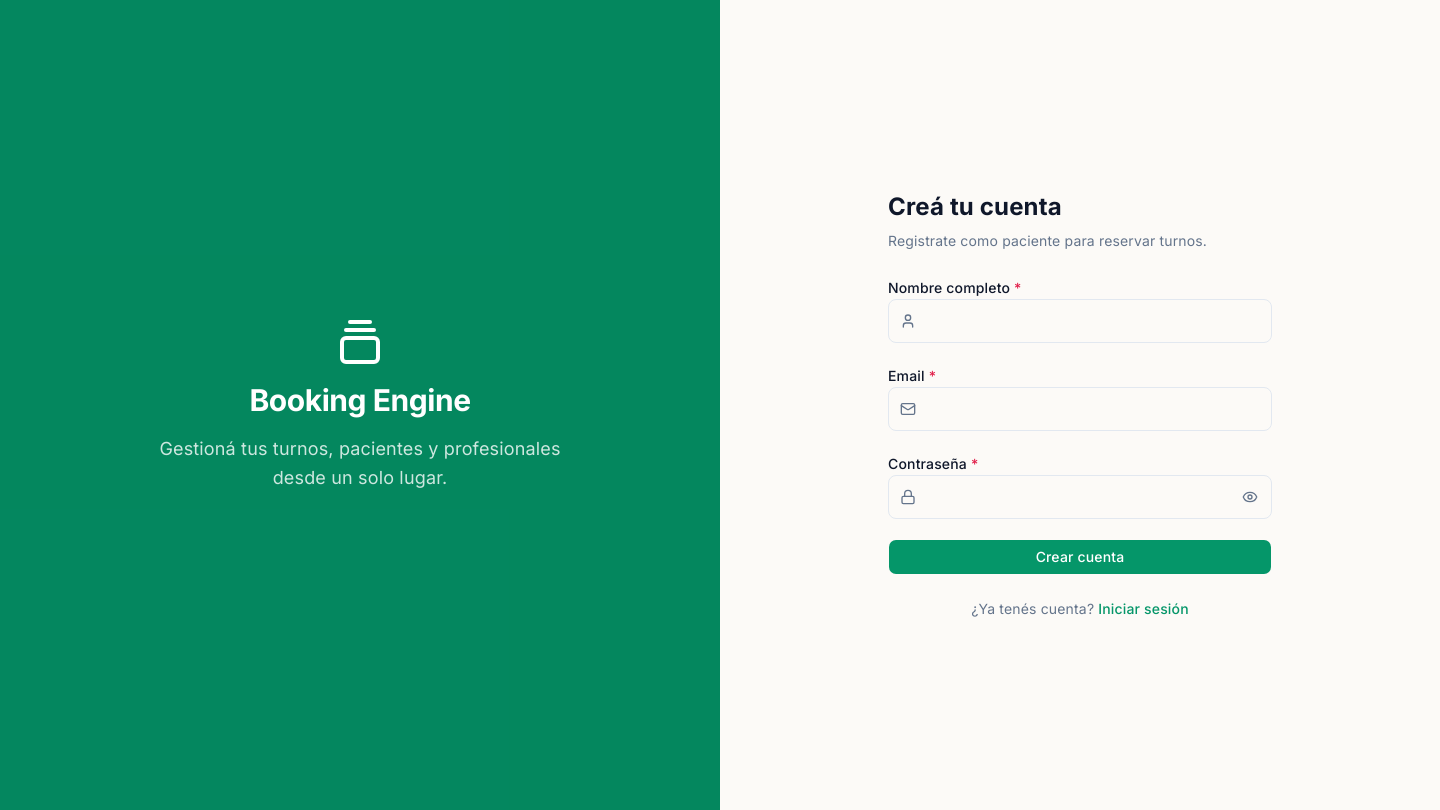
RegisterForm — focus first invalid field on multi-field failure › focuses the email input when name is valid but email and password are invalid
This screenshot has width=1440, height=810.
Type "Juan" into the field labelled "Nombre completo*" at x=1080, y=321, box x1=888 y1=299 x2=1272 y2=343
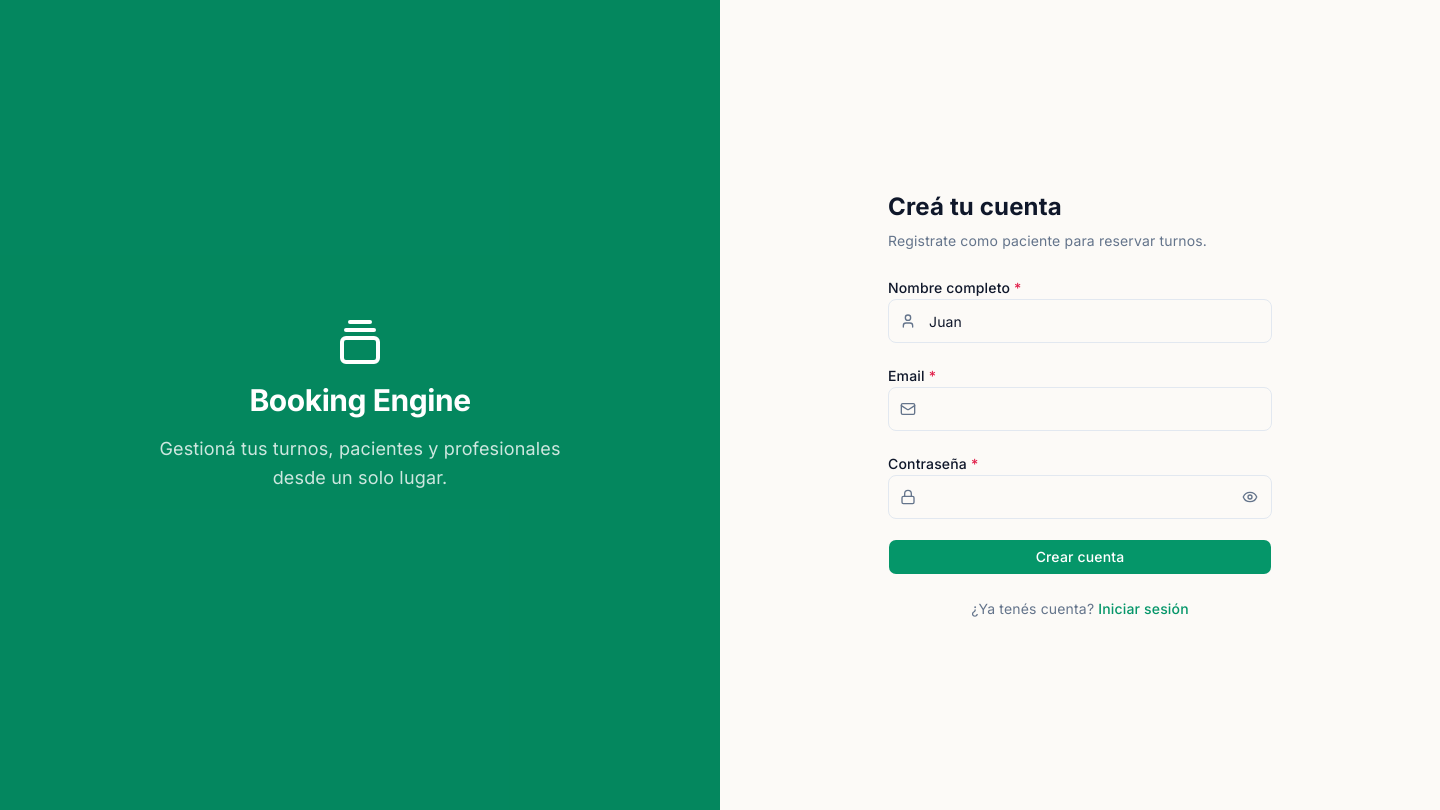
Type "not-an-email" into the field labelled "Email*" at x=1080, y=409, box x1=888 y1=387 x2=1272 y2=431
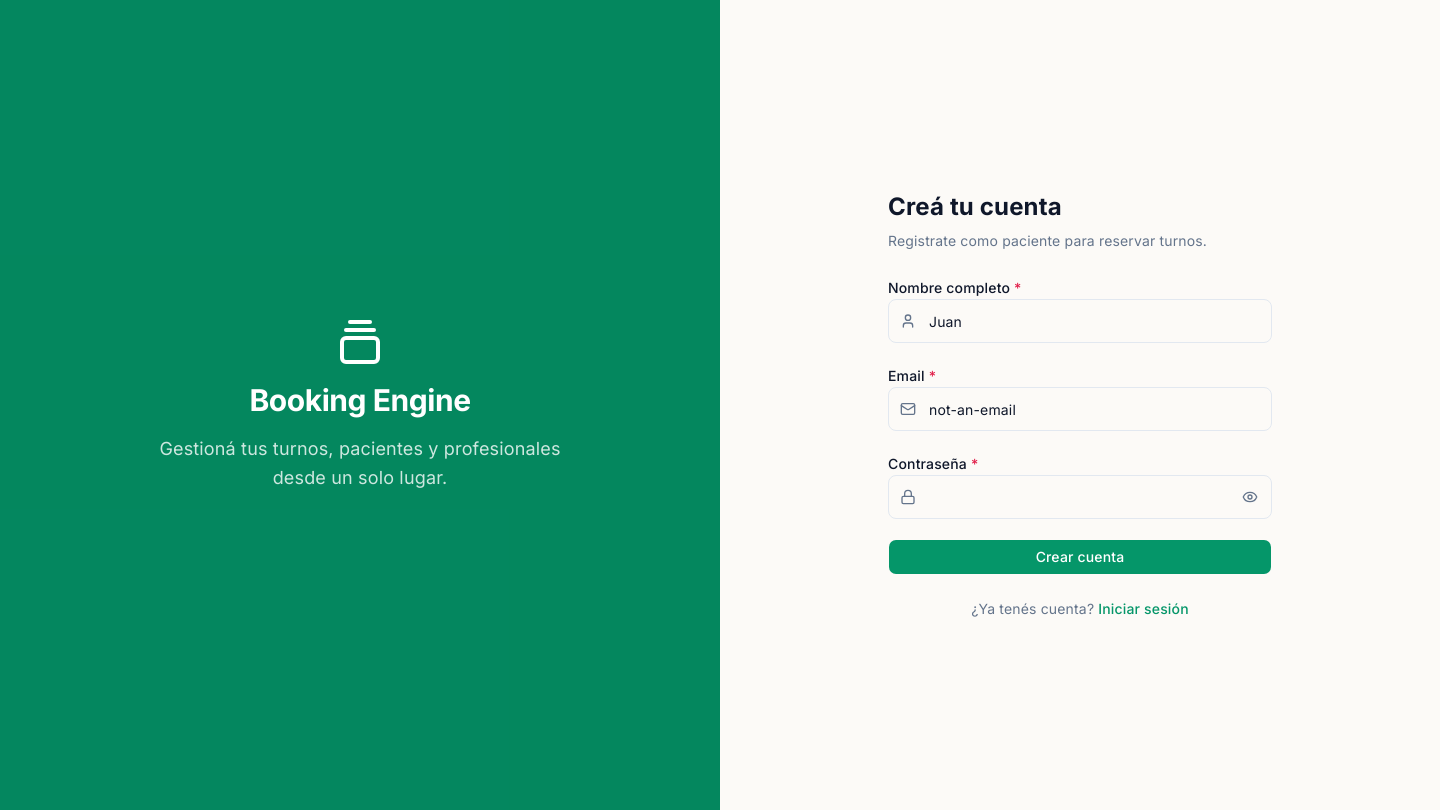
Type "short" into the password field labelled "Contraseña*" at x=1080, y=497, box x1=888 y1=475 x2=1272 y2=519
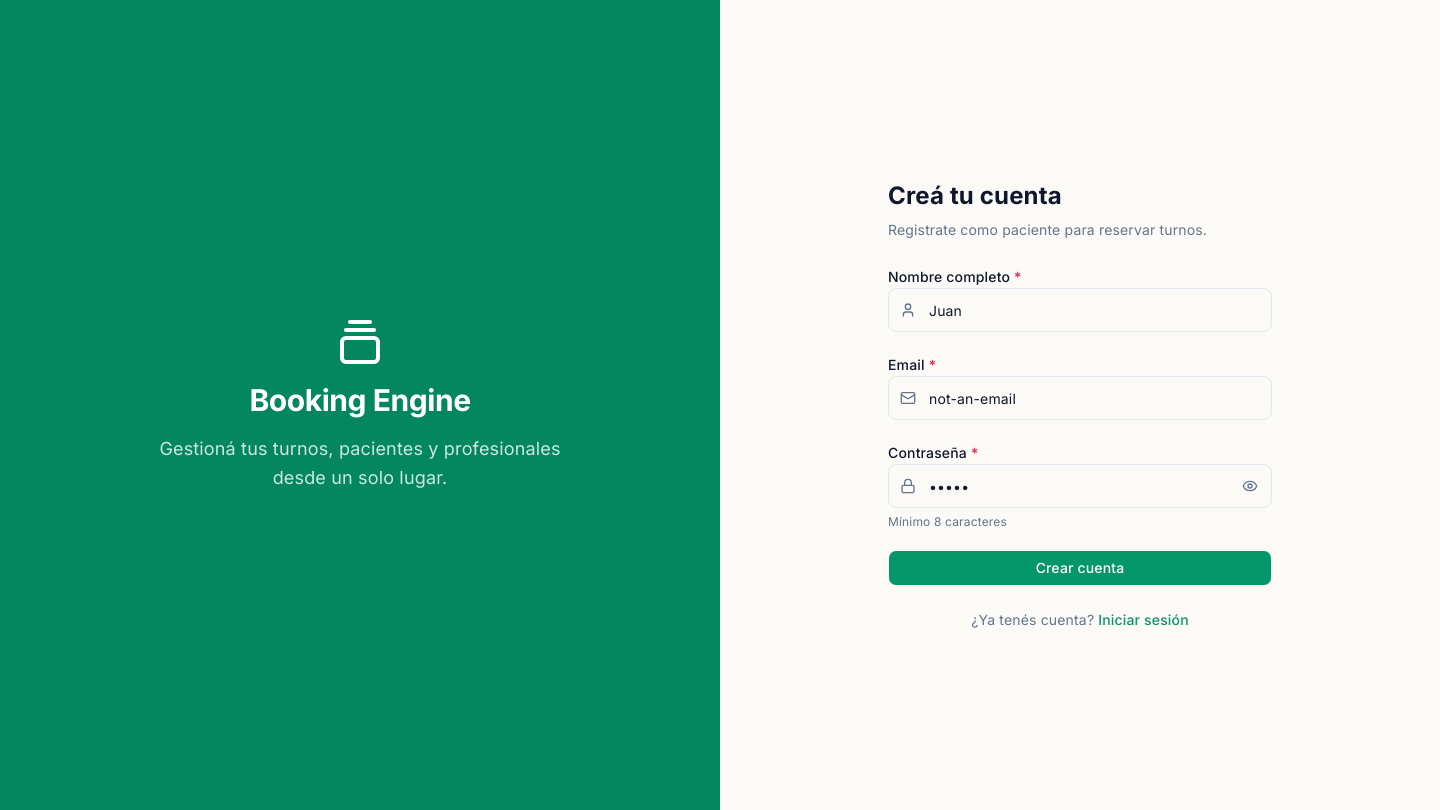
Click the button "Crear cuenta" at x=1080, y=568, box x1=888 y1=550 x2=1272 y2=586
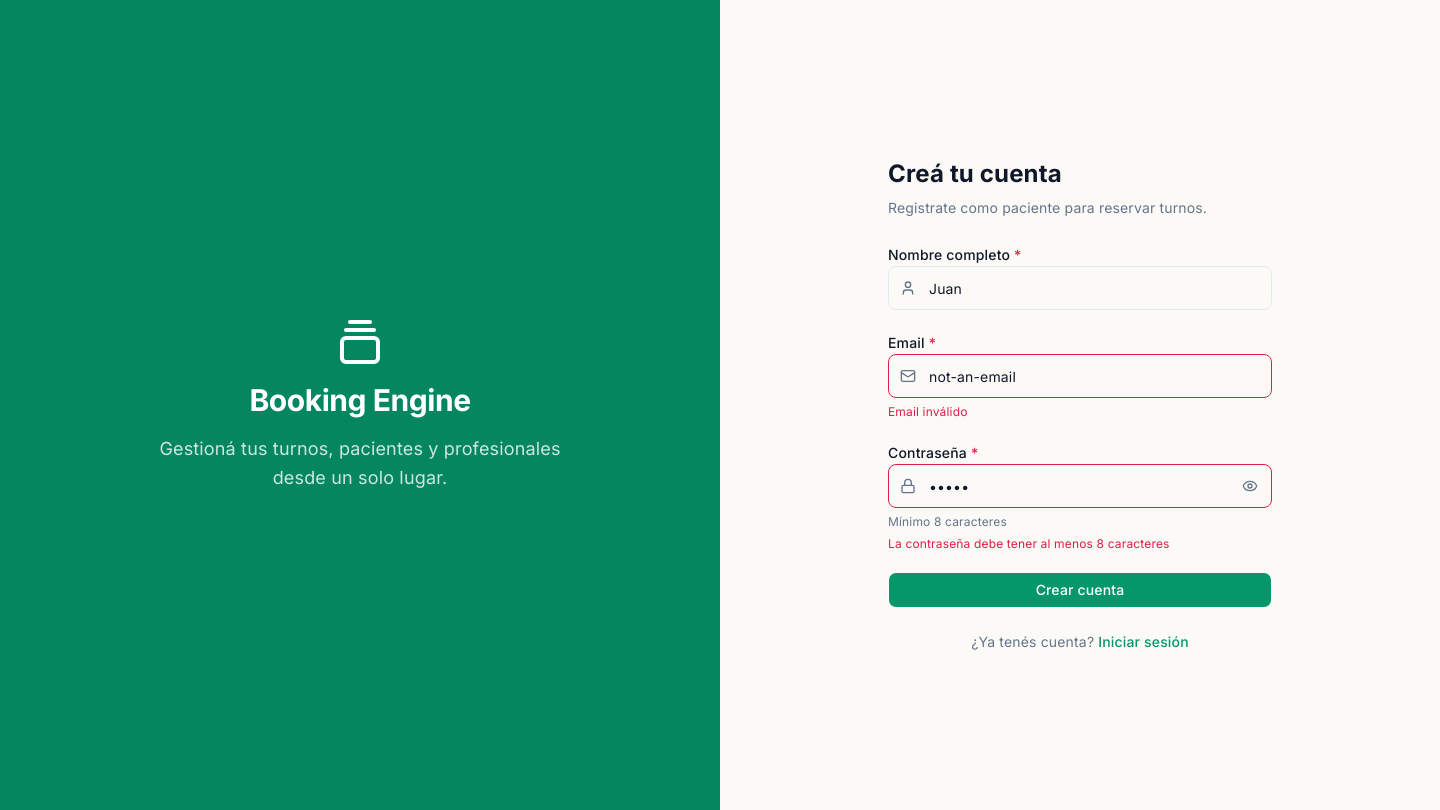
Expected: the message "Email inválido" is shown, x1=888 y1=404 x2=968 y2=419
